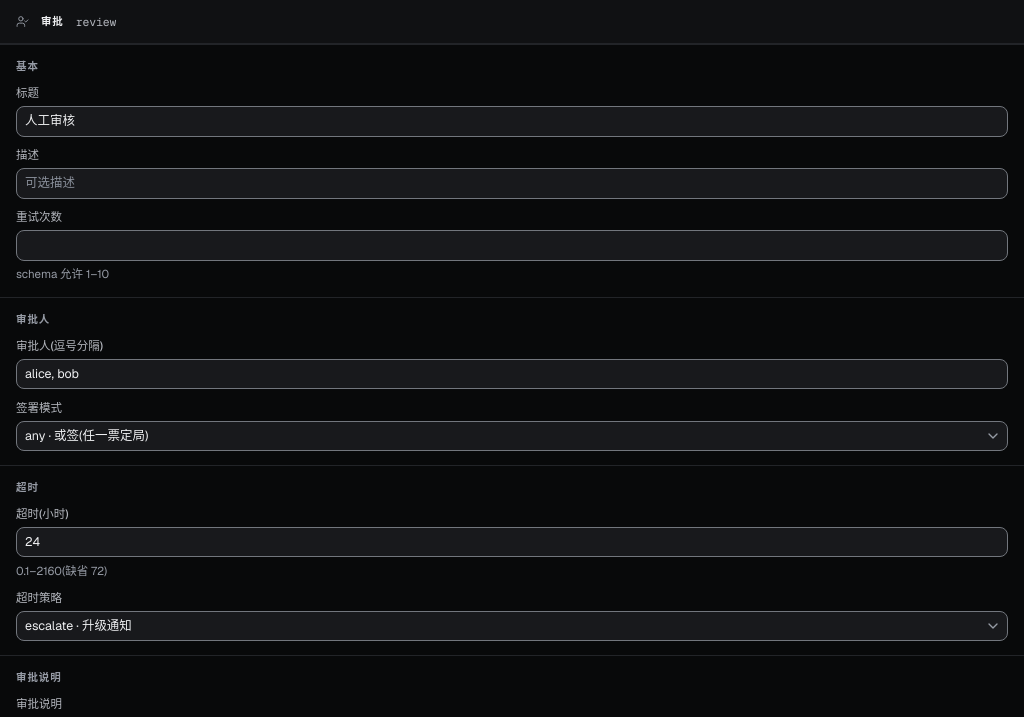
NodePanel › 就近错误:审批人重复当场指出(schema approvers uniqueItems)
In the field labelled "审批人(逗号分隔)": [512, 374] box [16,359,1008,389], type "alice, alice"
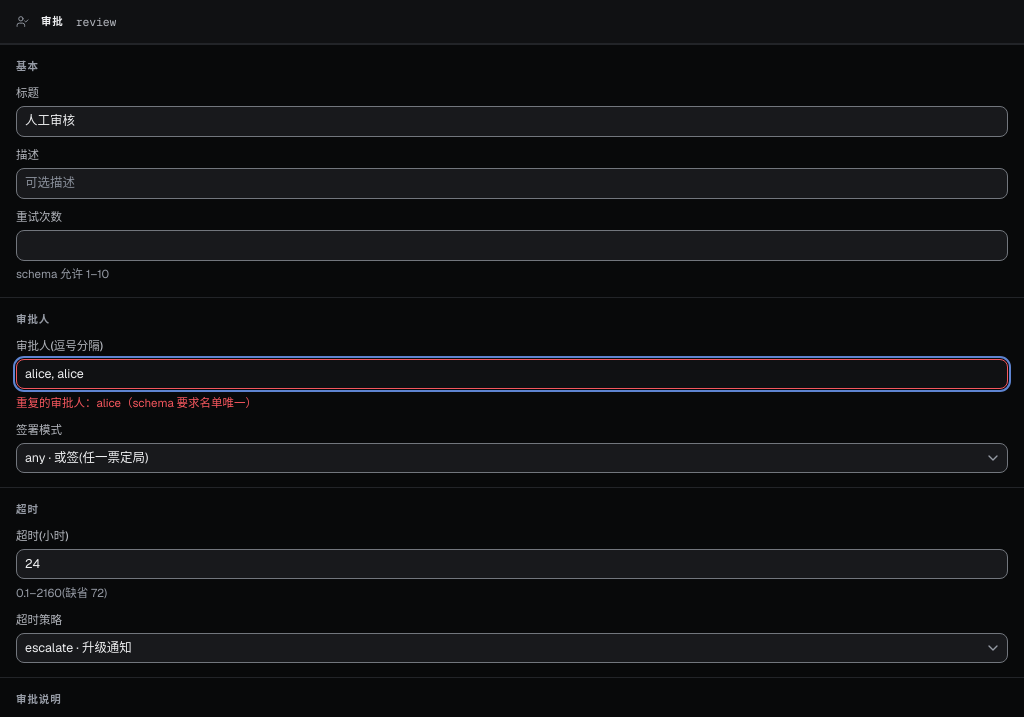
Expected: the message shows "重复的审批人：alice", [16,395,257,410]
